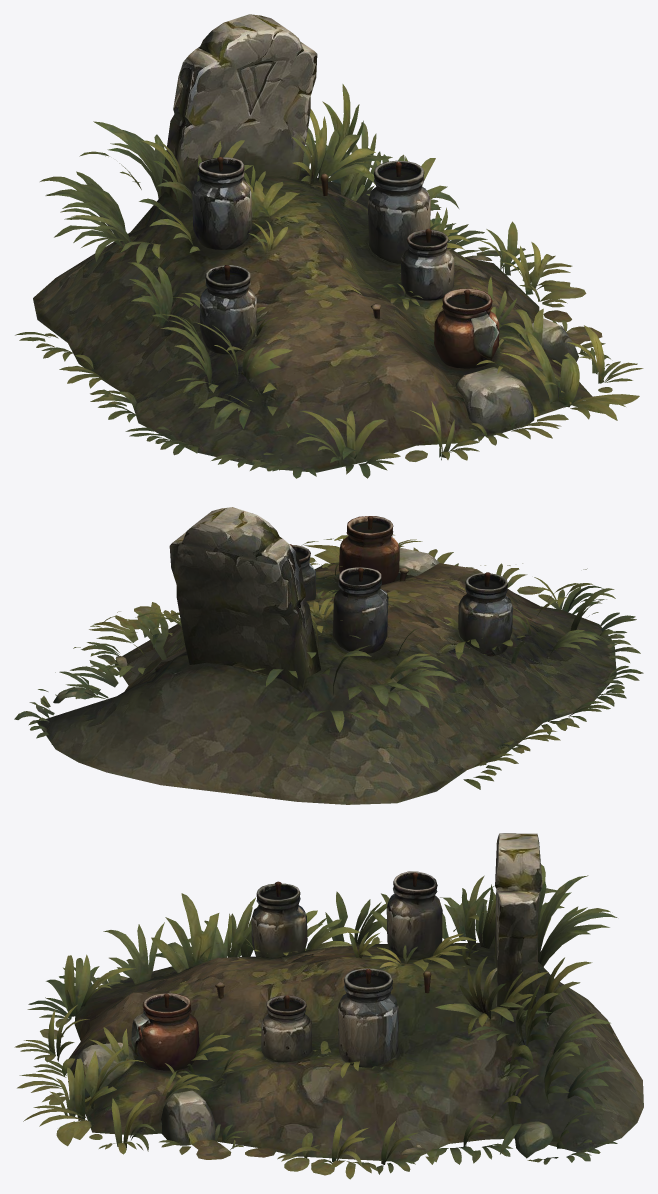
The model's file is act1-a16-3-jar-candle-grave.glb.
3 views of the same model, one above another, from view 1: azimuth 30°, elevation 25°; view 2: azimuth 150°, elevation 25°; view 3: azimuth 270°, elevation 25° (orthographic). The views are drawn at different scales.
Visible parts, largest first — view 1: act1-a16-3-jar-candle-grave; view 2: act1-a16-3-jar-candle-grave; view 3: act1-a16-3-jar-candle-grave.
Boxes of the visible parts, x1,y1,x2,y2 form: act1-a16-3-jar-candle-grave: [15, 14, 643, 478]; act1-a16-3-jar-candle-grave: [14, 507, 643, 804]; act1-a16-3-jar-candle-grave: [14, 833, 643, 1179].
Size of the model in its own units: 1.98 by 0.9319 by 2.2.
Materials: 1 (1 with a texture image).
